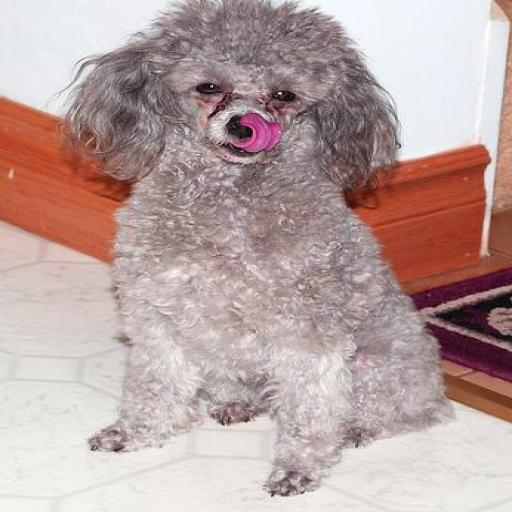dog_face: (78, 2, 420, 183)
